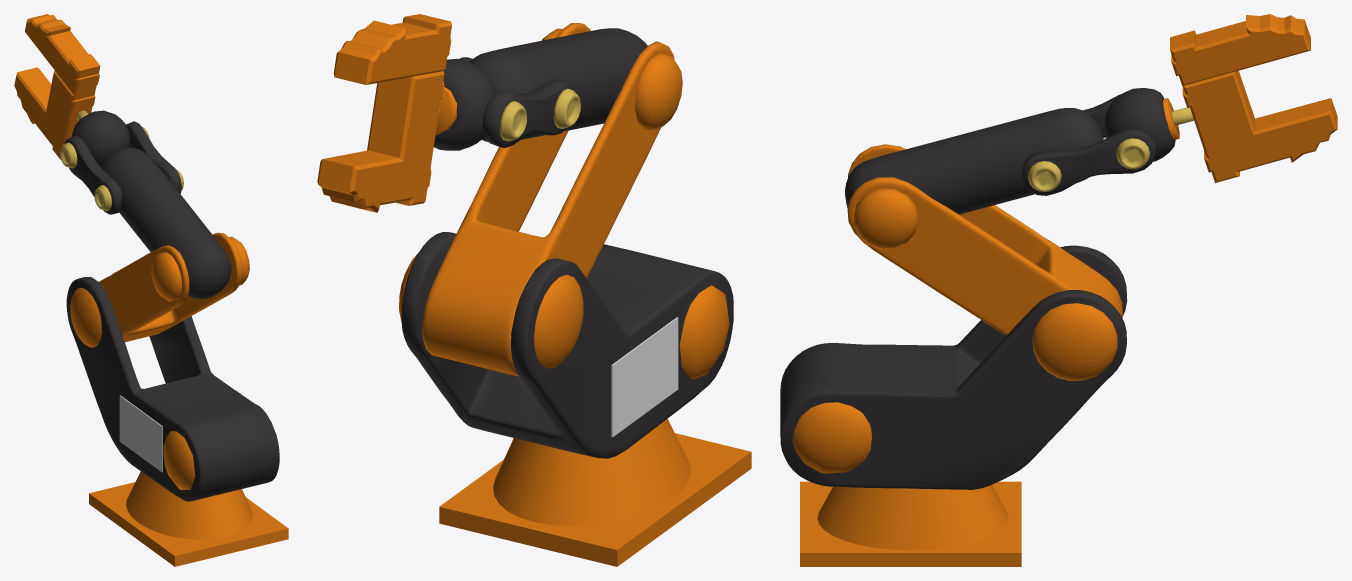
The model's file is Brazo robot.fbx.
3 views of the same model, side by side, from view 1: azimuth 30°, elevation 25°; view 2: azimuth 150°, elevation 25°; view 3: azimuth 270°, elevation 25° (orthographic). The views are drawn at different scales.
Visible parts, largest first — view 1: TPose1_PM3D_Cube3D1.003, TPose1_PM3D_Cube3D1.011, TPose1_PM3D_Cube3D1.005, TPose1_PM3D_Cube3D1, TPose1_PM3D_Cube3D1.002, TPose1_PM3D_Cube3D1.001, TPose1_PM3D_Cube3D1.004, TPose1_PM3D_Cube3D1.009, TPose1_PM3D_Cube3D1.007; view 2: TPose1_PM3D_Cube3D1.003, TPose1_PM3D_Cube3D1.005, TPose1_PM3D_Cube3D1.011, TPose1_PM3D_Cube3D1, TPose1_PM3D_Cube3D1.002, TPose1_PM3D_Cube3D1.001, TPose1_PM3D_Cube3D1.004, TPose1_PM3D_Cube3D1.009, TPose1_PM3D_Cube3D1.007; view 3: TPose1_PM3D_Cube3D1.003, TPose1_PM3D_Cube3D1.011, TPose1_PM3D_Cube3D1.005, TPose1_PM3D_Cube3D1, TPose1_PM3D_Cube3D1.002, TPose1_PM3D_Cube3D1.001, TPose1_PM3D_Cube3D1.008, TPose1_PM3D_Cube3D1.006.
Part boxes in pixels (x1,y1,x2,y2): TPose1_PM3D_Cube3D1.003: [66, 276, 279, 501]; TPose1_PM3D_Cube3D1.011: [60, 110, 231, 298]; TPose1_PM3D_Cube3D1.005: [99, 232, 249, 342]; TPose1_PM3D_Cube3D1: [14, 14, 100, 159]; TPose1_PM3D_Cube3D1.002: [126, 471, 252, 539]; TPose1_PM3D_Cube3D1.001: [89, 482, 288, 566]; TPose1_PM3D_Cube3D1.004: [119, 395, 162, 472]; TPose1_PM3D_Cube3D1.009: [70, 288, 101, 347]; TPose1_PM3D_Cube3D1.007: [163, 431, 195, 489]; TPose1_PM3D_Cube3D1.003: [401, 232, 733, 458]; TPose1_PM3D_Cube3D1.005: [422, 23, 682, 376]; TPose1_PM3D_Cube3D1.011: [433, 28, 647, 150]; TPose1_PM3D_Cube3D1: [317, 14, 451, 212]; TPose1_PM3D_Cube3D1.002: [493, 419, 690, 526]; TPose1_PM3D_Cube3D1.001: [439, 433, 751, 566]; TPose1_PM3D_Cube3D1.004: [611, 317, 678, 437]; TPose1_PM3D_Cube3D1.009: [534, 275, 583, 368]; TPose1_PM3D_Cube3D1.007: [679, 285, 729, 379]; TPose1_PM3D_Cube3D1.003: [780, 245, 1127, 489]; TPose1_PM3D_Cube3D1.011: [845, 88, 1193, 214]; TPose1_PM3D_Cube3D1.005: [847, 144, 1122, 335]; TPose1_PM3D_Cube3D1: [1170, 14, 1337, 182]; TPose1_PM3D_Cube3D1.002: [817, 485, 1008, 550]; TPose1_PM3D_Cube3D1.001: [800, 481, 1021, 566]; TPose1_PM3D_Cube3D1.008: [1032, 303, 1117, 380]; TPose1_PM3D_Cube3D1.006: [792, 402, 872, 473].
Size of the model in its own units: 200 by 667 by 659.
